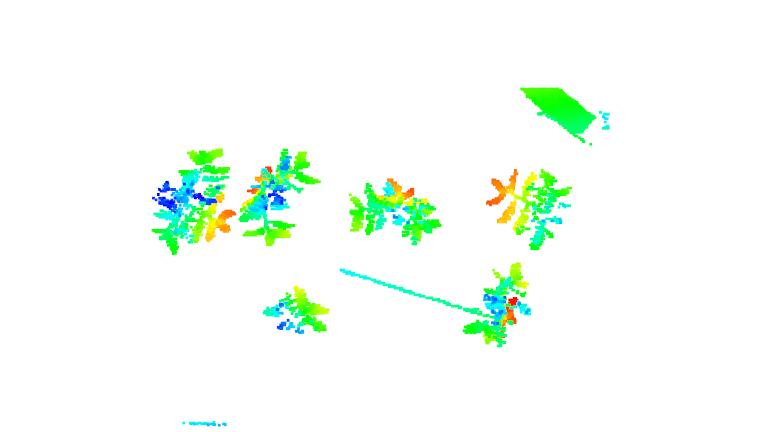chickpea: (150, 145, 237, 256), (240, 147, 321, 245), (485, 169, 577, 254), (346, 177, 445, 246), (460, 259, 530, 345), (262, 285, 331, 336)
